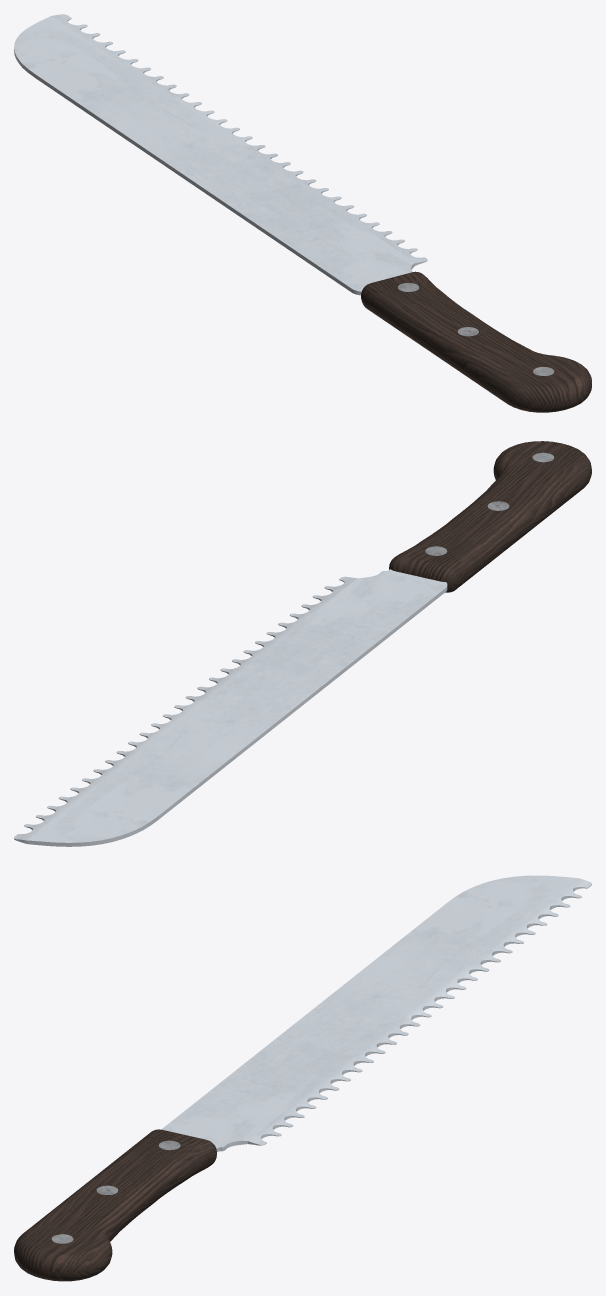
Rendered from knife-bread02.fbx.
The picture shows the model from 3 angles, top to bottom: view 1: azimuth 30°, elevation 25°; view 2: azimuth 150°, elevation 25°; view 3: azimuth 330°, elevation 25°; orthographic projection. The views are drawn at different scales.
Visible parts, largest first — view 1: knife_bread02; view 2: knife_bread02; view 3: knife_bread02.
Part boxes in pixels (x1,y1,x2,y2): knife_bread02: [14, 14, 591, 412]; knife_bread02: [14, 441, 591, 846]; knife_bread02: [14, 875, 591, 1281].
Size of the model in its own units: 2.28 by 0.5142 by 18.81.
